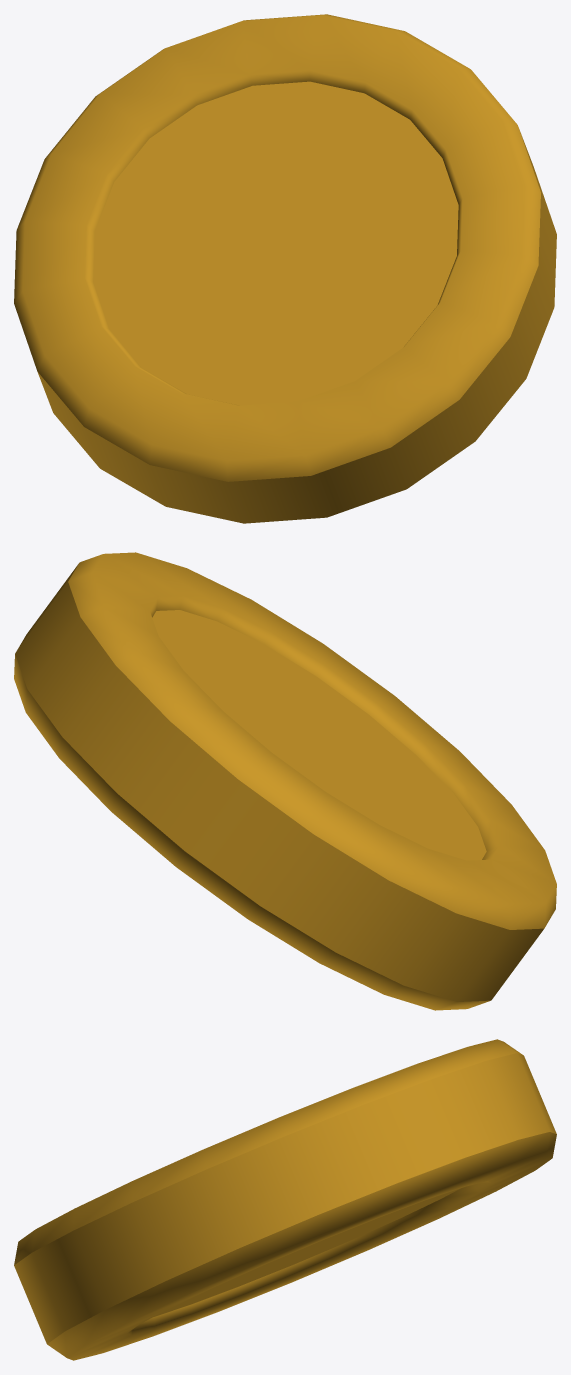
The model's file is UnitIconCoin.glb.
3 renders of one model, top to bottom at view 1: azimuth 30°, elevation 25°; view 2: azimuth 150°, elevation 25°; view 3: azimuth 270°, elevation 25°, orthographic. The views are drawn at different scales.
Parts seen in each view (by area): view 1: Body__mBody; view 2: Body__mBody; view 3: Body__mBody.
Part boxes in pixels (x1=…): Body__mBody: x1=14, y1=14, x2=556, y2=523; Body__mBody: x1=14, y1=552, x2=556, y2=1010; Body__mBody: x1=14, y1=1039, x2=556, y2=1360.
Bounding box in the file's own units: 2.82 × 2.17 × 2.87.
Materials: 1 (1 with a texture image).
